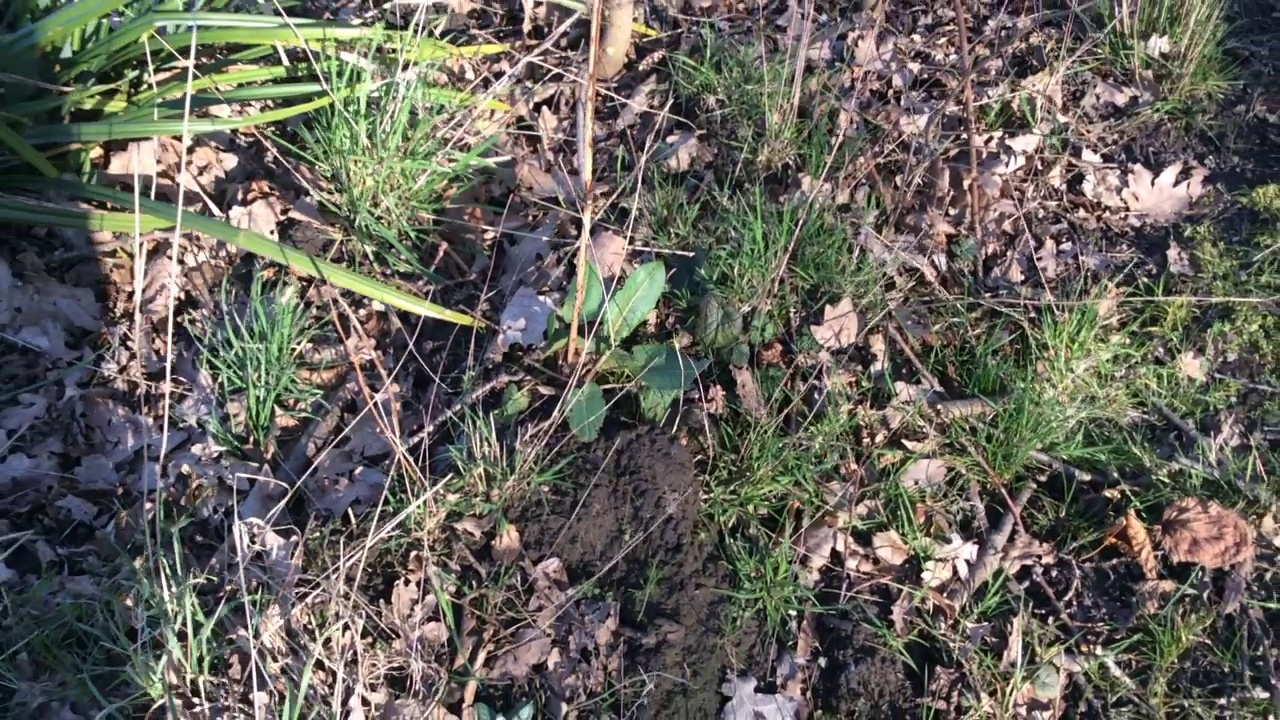rumex: (501, 261, 694, 444)
